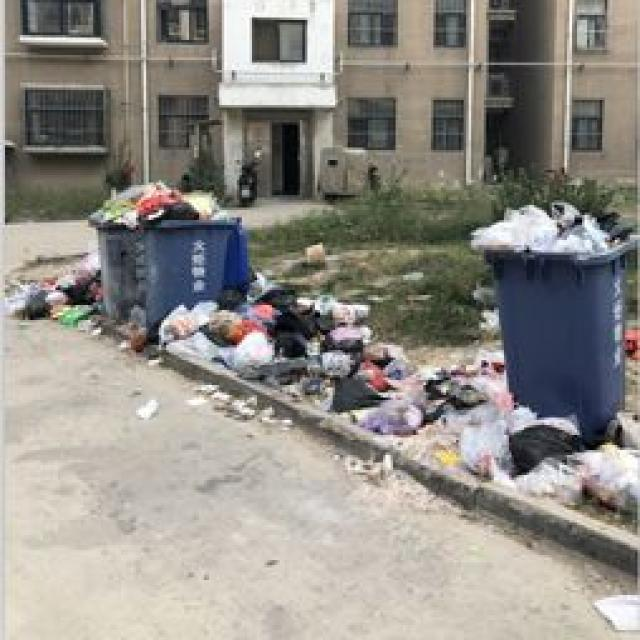garbage: (153, 270, 638, 508), (8, 252, 98, 332)
overflow: (468, 198, 638, 440), (139, 180, 229, 320), (88, 180, 144, 318)
